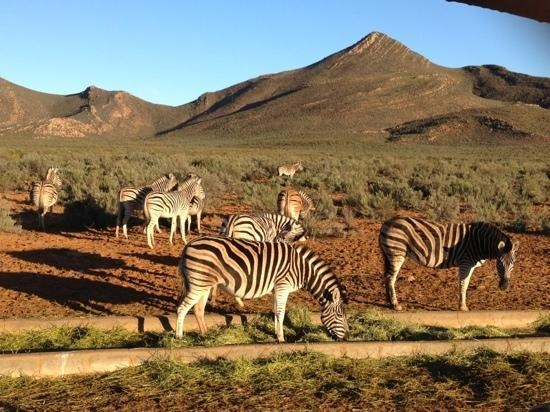zebra: (262, 292, 440, 402), (448, 260, 550, 361), (175, 206, 238, 268), (46, 194, 79, 261)
